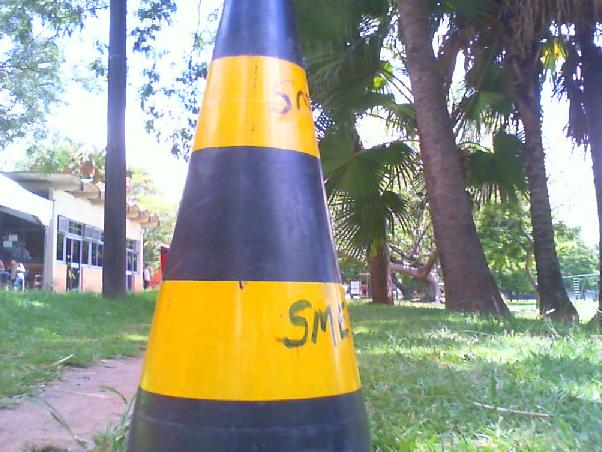0 cone: (123, 0, 375, 452)
